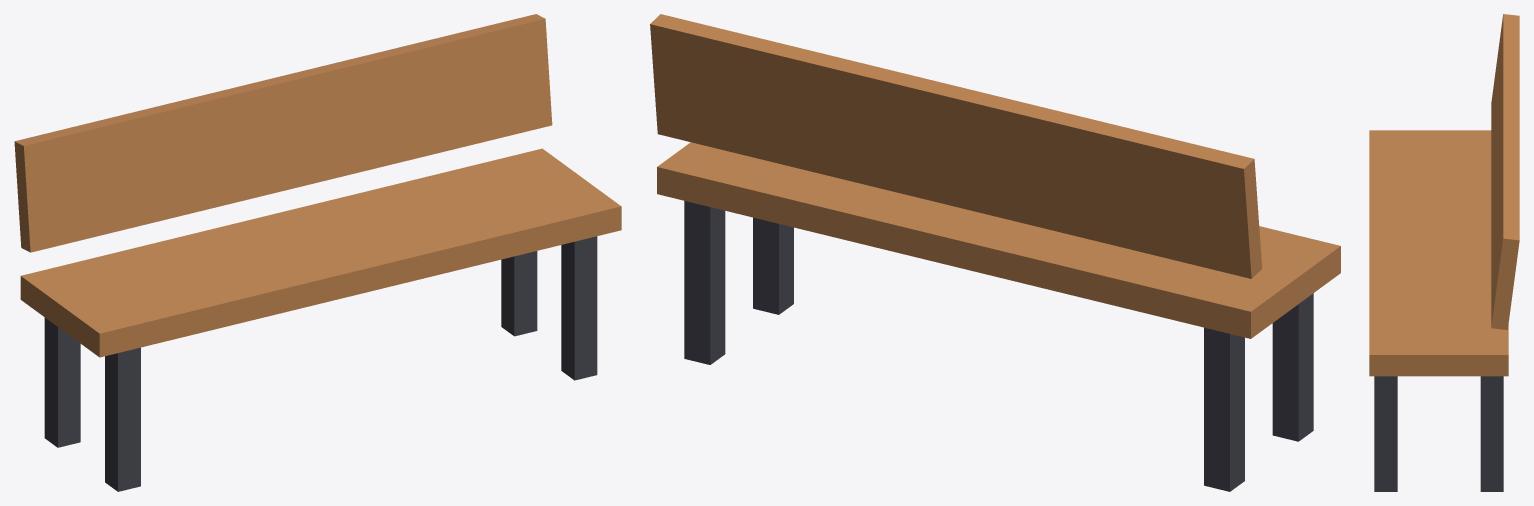
The model's file is bench.glb.
3 renders of one model, left to right at view 1: azimuth 30°, elevation 25°; view 2: azimuth 150°, elevation 25°; view 3: azimuth 270°, elevation 25°, orthographic. The views are drawn at different scales.
Visible parts, largest first — view 1: bench-0, bench-1; view 2: bench-0, bench-1; view 3: bench-0, bench-1.
Boxes of the visible parts, x1=… form: bench-0: x1=14, y1=14, x2=621, y2=357; bench-1: x1=44, y1=236, x2=597, y2=491; bench-0: x1=650, y1=14, x2=1340, y2=338; bench-1: x1=684, y1=201, x2=1313, y2=491; bench-0: x1=1369, y1=14, x2=1519, y2=376; bench-1: x1=1374, y1=376, x2=1503, y2=491.
Size of the model in its own units: 1.6 by 0.8719 by 0.4528.
